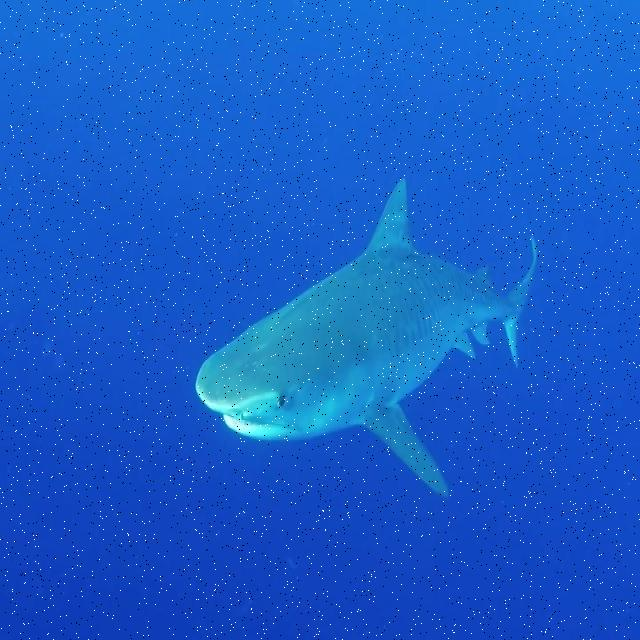fish: (196, 178, 537, 497)
